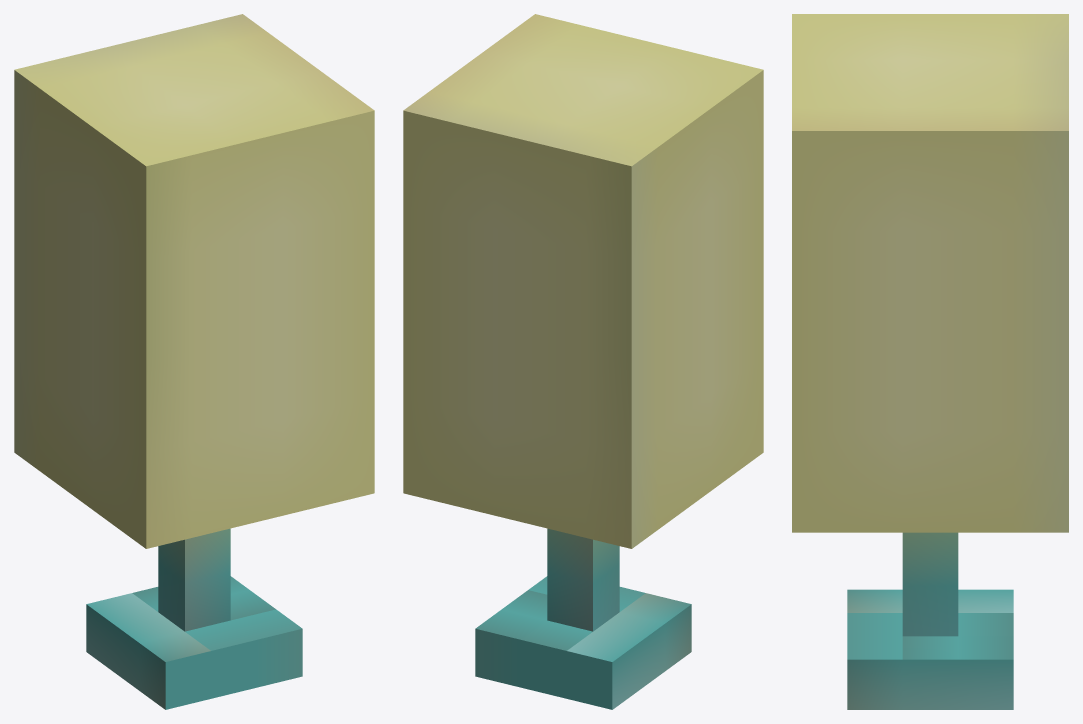
The model's file is LampYellowBlueBase_00.obj.
The picture shows the model from 3 angles, left to right: view 1: azimuth 30°, elevation 25°; view 2: azimuth 150°, elevation 25°; view 3: azimuth 270°, elevation 25°; orthographic projection. The views are drawn at different scales.
Visible parts, largest first — view 1: LampYellowBlueBase_00; view 2: LampYellowBlueBase_00; view 3: LampYellowBlueBase_00.
Part boxes in pixels (left/top/right/bottom): LampYellowBlueBase_00: left=14, top=14, right=374, bottom=709; LampYellowBlueBase_00: left=403, top=14, right=763, bottom=709; LampYellowBlueBase_00: left=792, top=14, right=1068, bottom=709.
Bounding box in the file's own units: 0.25 × 0.6 × 0.25.
